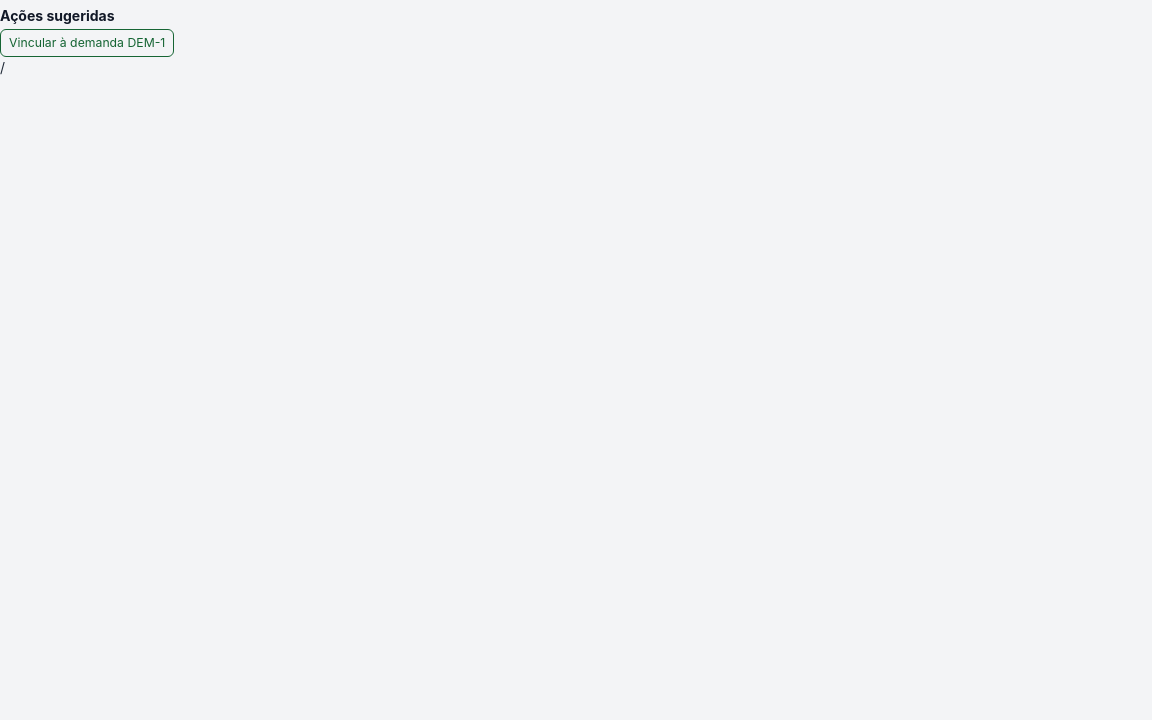
Test: AcoesSugeridas › não grava o vínculo sem confirmação e grava após confirmar
Step 1. Click the button "Vincular à demanda DEM-1" → {"x": 87, "y": 43}, box x1=0 y1=29 x2=174 y2=57
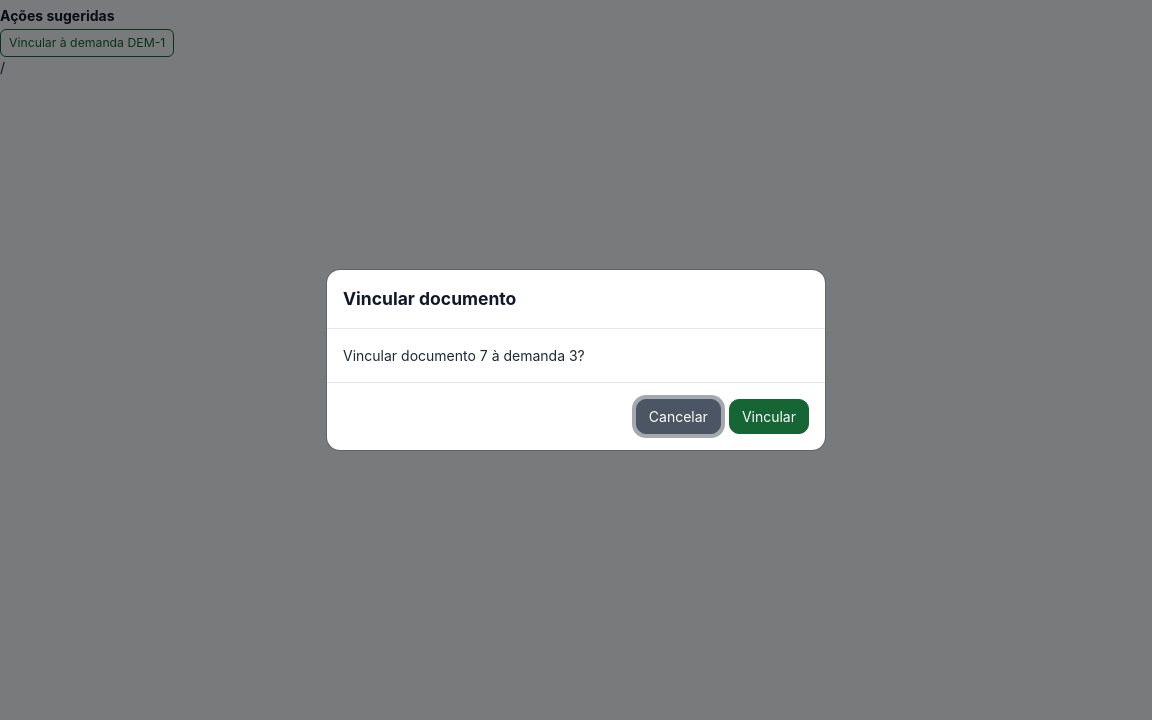
Expected: the text "Vincular documento 7 à demanda 3?" is shown, x1=343 y1=347 x2=585 y2=364
Step 2. Click the button "Cancelar" → {"x": 678, "y": 417}, box x1=636 y1=399 x2=721 y2=434
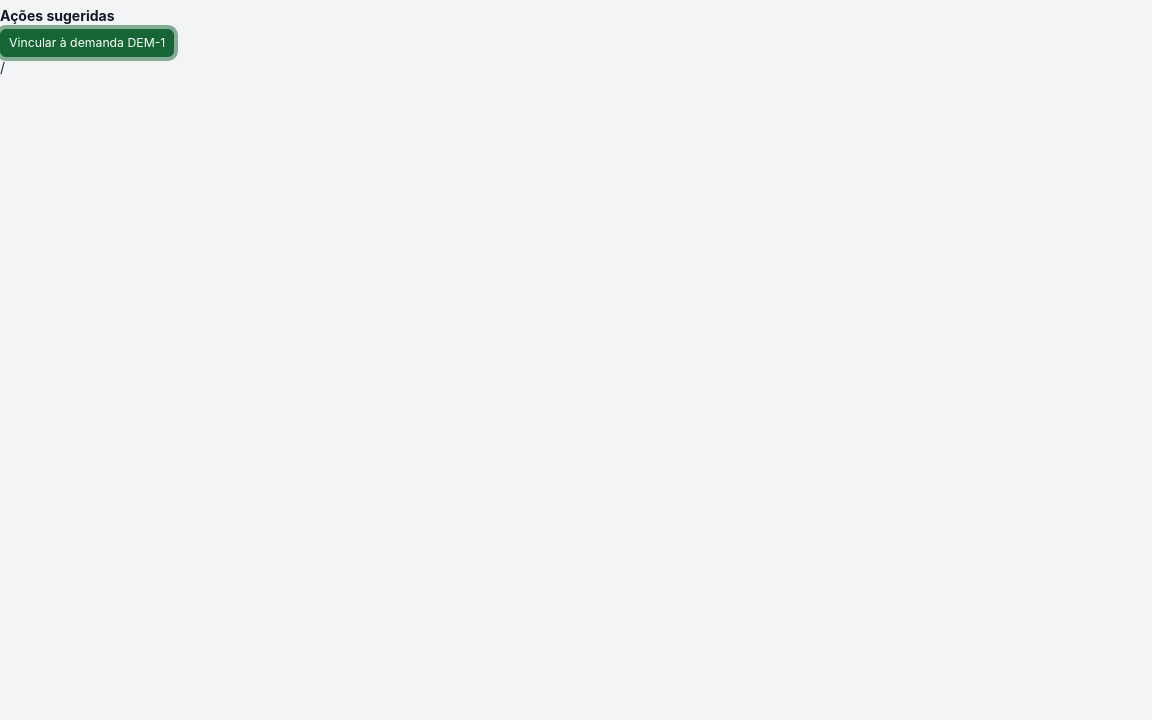
Step 3. Click the button "Vincular à demanda DEM-1" → {"x": 87, "y": 43}, box x1=0 y1=29 x2=174 y2=57
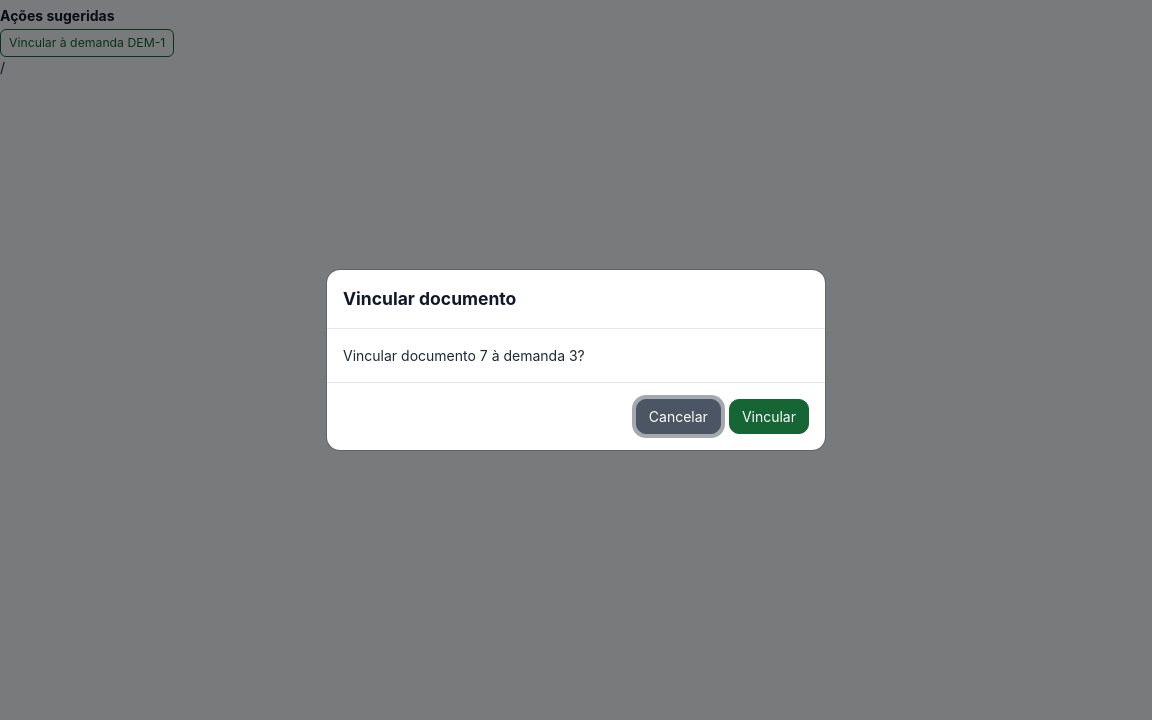
Step 4. Click the button "Vincular" → {"x": 769, "y": 417}, box x1=729 y1=399 x2=809 y2=434
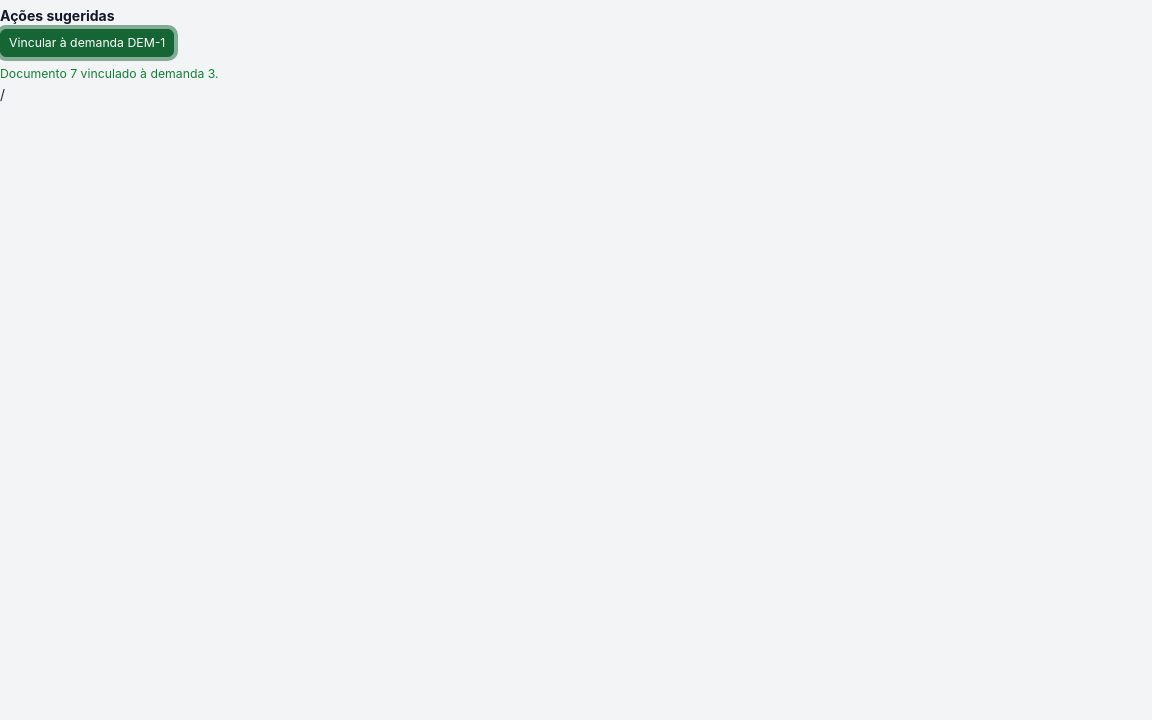
Expected: the message shows "vinculado à demanda 3", x1=0 y1=66 x2=218 y2=81
